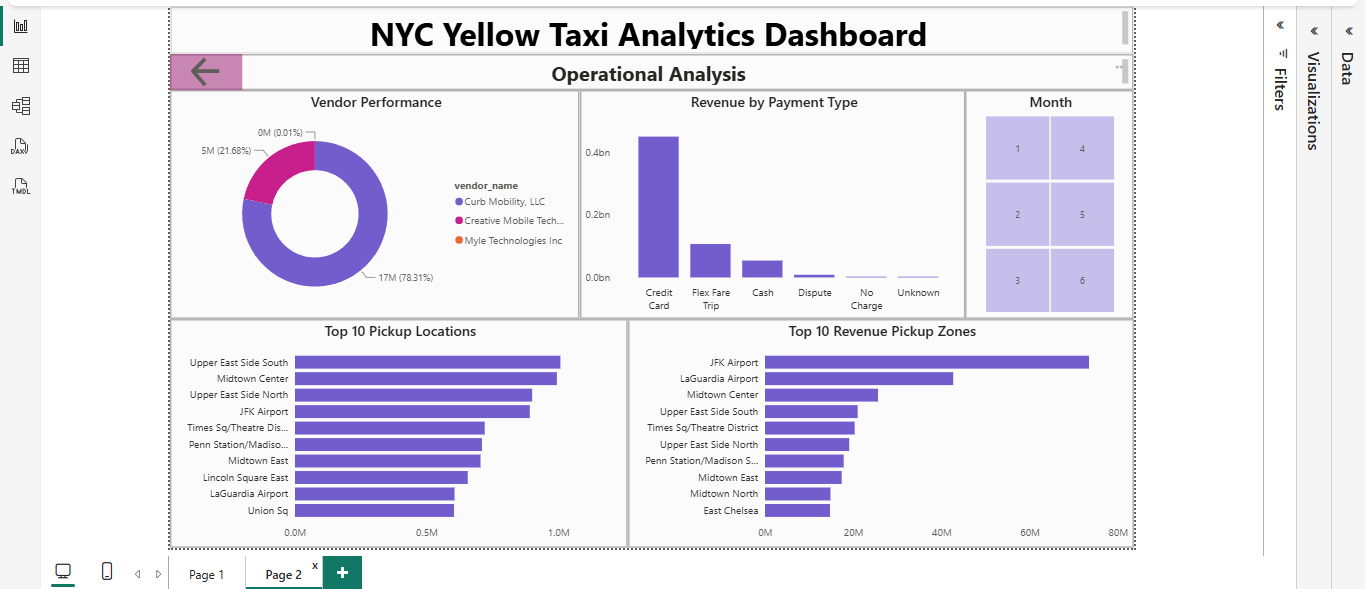

This screenshot's page, from the dashboard's own definition file:
{"tool":"powerbi","page":{"name":"Page 2","canvas":[1280,720],"ordinal":1},"visuals":[{"type":"textbox","box":[0,0,1280,64],"z":0},{"type":"textbox","box":[0,64,1280,48],"z":1000},{"type":"barChart","title":"Top 10 Pickup Locations ","fields":{"Y":["Sum(Top 10 Pickup Locations.pickup_count)"],"Category":["Top 10 Pickup Locations.zone"]},"box":[0,416,608,304],"z":2000},{"type":"barChart","title":"Top 10 Revenue Pickup Zones  ","fields":{"Category":["Top 10 Revenue-Generating Pickup Zones.zone"],"Y":["Sum(Top 10 Revenue-Generating Pickup Zones.total_revenue_by_location)"]},"box":[608,416,672,304],"z":3000},{"type":"donutChart","title":"Vendor Performance","fields":{"Category":["Vendor Performance.vendor_name"],"Y":["Sum(Vendor Performance.trip_count)"]},"box":[0,112,544,304],"z":4000},{"type":"columnChart","title":"Revenue by Payment Type","fields":{"Category":["Revenue by Payment Type.payment_type_desc"],"Y":["Sum(Revenue by Payment Type.total_revenue)"]},"box":[544,112,512,304],"z":4001},{"type":"slicer","title":"Month","fields":{"Values":["Monthly Revenue Trend.pickup_month"]},"box":[1056,112,224,304],"z":4002},{"type":"actionButton","box":[0,64,96,48],"z":4003}]}

Visuals, with their boxes on the page's 1280x720 design canvas (x1, y1, x2, y2). These are canvas units, not pixel positions in the 1365x589 screenshot, which may show the page scaled, cropped or inside an application window:
textbox: x1=0 y1=0 x2=1280 y2=64
textbox: x1=0 y1=64 x2=1280 y2=112
"Top 10 Pickup Locations " barChart: x1=0 y1=416 x2=608 y2=720
"Top 10 Revenue Pickup Zones  " barChart: x1=608 y1=416 x2=1280 y2=720
"Vendor Performance" donutChart: x1=0 y1=112 x2=544 y2=416
"Revenue by Payment Type" columnChart: x1=544 y1=112 x2=1056 y2=416
"Month" slicer: x1=1056 y1=112 x2=1280 y2=416
actionButton: x1=0 y1=64 x2=96 y2=112
